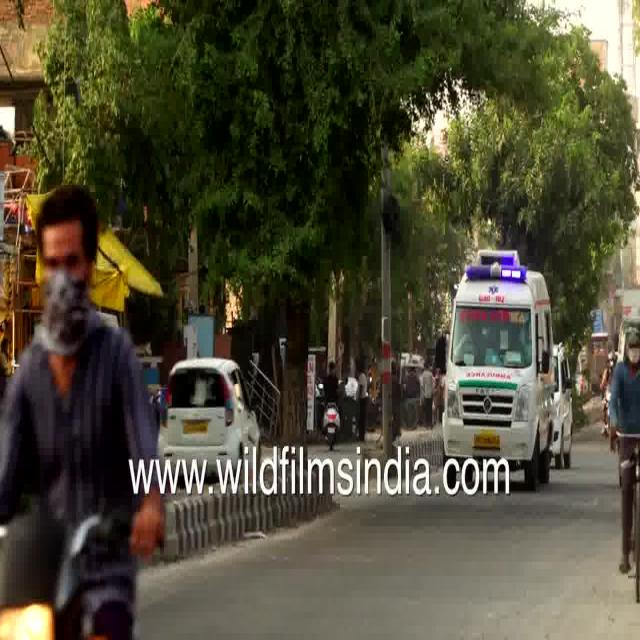ambulance: (438, 252, 558, 471)
